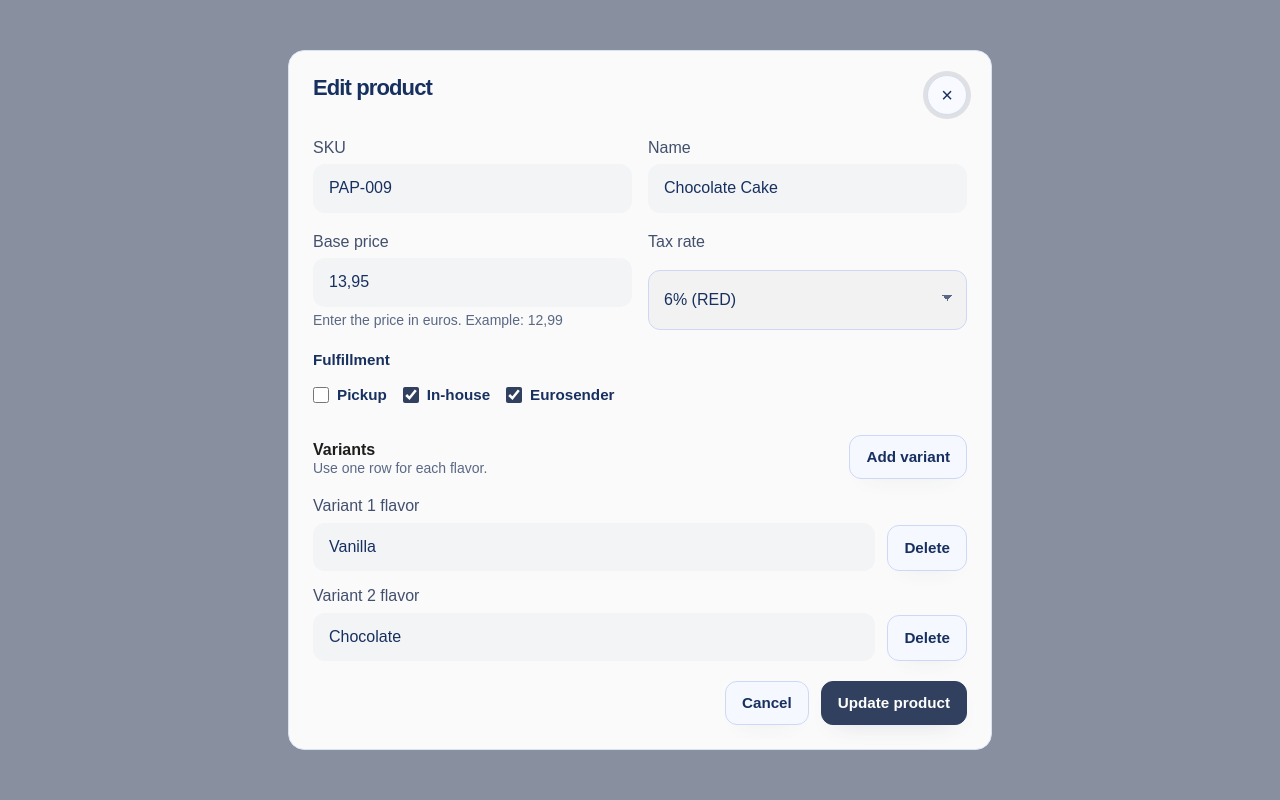
it: ProductsModal › shows API errors and keeps the modal open when update fails
This screenshot has width=1280, height=800.
Click the button "Update product".
click(894, 703)  # box [821, 681, 967, 725]
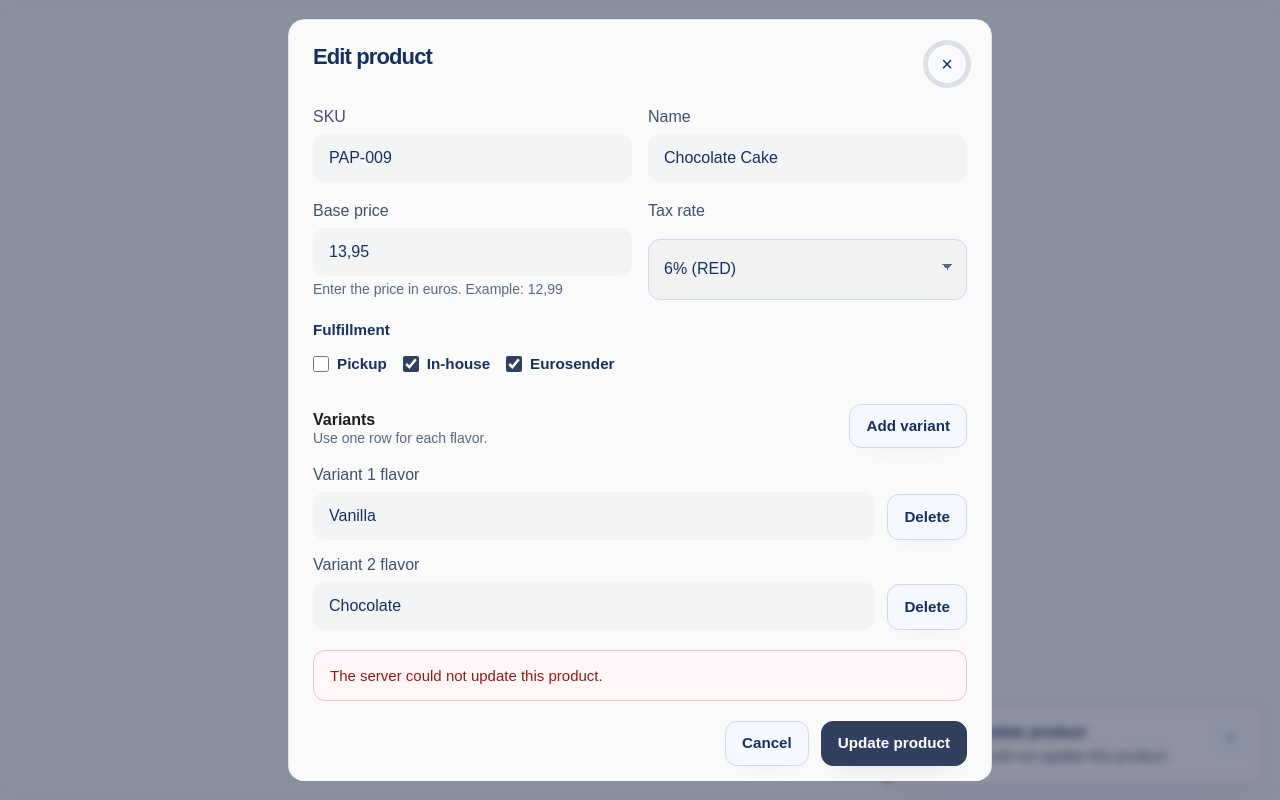
Expected: the text "Unable to update product" is shown, [902, 723, 1086, 740]
Expected: the text "The server could not update this product." is shown, [313, 650, 967, 701]
